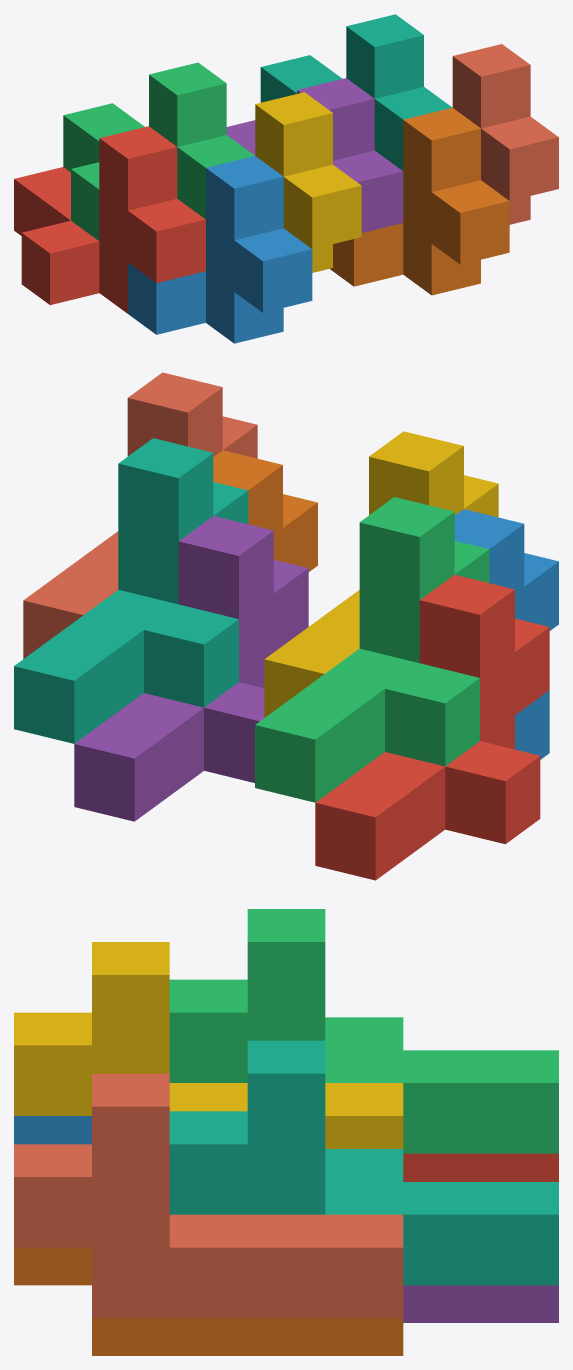
Rendered from tiling.obj.
3 renders of one model, top to bottom at view 1: azimuth 30°, elevation 25°; view 2: azimuth 150°, elevation 25°; view 3: azimuth 270°, elevation 25°, orthographic. The views are drawn at different scales.
Parts seen in each view (by area): view 1: copy_1_domain_1, copy_1_domain_2, copy_1_domain_6, copy_1_domain_3, copy_1_domain_8, copy_1_domain_4, copy_1_domain_7, copy_1_domain_5; view 2: copy_1_domain_7, copy_1_domain_3, copy_1_domain_1, copy_1_domain_5, copy_1_domain_8, copy_1_domain_4, copy_1_domain_2, copy_1_domain_6; view 3: copy_1_domain_8, copy_1_domain_7, copy_1_domain_3, copy_1_domain_4, copy_1_domain_6, copy_1_domain_5, copy_1_domain_1, copy_1_domain_2.
Part boxes in pixels (box(x1,y1,x2,y2)): copy_1_domain_1: box(14, 126, 205, 313); copy_1_domain_2: box(128, 156, 312, 343); copy_1_domain_6: box(330, 107, 509, 295); copy_1_domain_3: box(63, 62, 254, 240); copy_1_domain_8: box(452, 44, 558, 224); copy_1_domain_4: box(255, 92, 361, 272); copy_1_domain_7: box(260, 14, 451, 170); copy_1_domain_5: box(226, 78, 403, 232); copy_1_domain_7: box(14, 438, 248, 743); copy_1_domain_3: box(255, 497, 489, 802); copy_1_domain_1: box(315, 574, 549, 880); copy_1_domain_5: box(74, 516, 308, 821); copy_1_domain_8: box(23, 372, 257, 658); copy_1_domain_4: box(264, 431, 498, 717); copy_1_domain_2: box(454, 509, 558, 759); copy_1_domain_6: box(213, 450, 317, 571); copy_1_domain_8: box(14, 1073, 403, 1318); copy_1_domain_7: box(169, 1040, 558, 1285); copy_1_domain_3: box(169, 909, 558, 1153); copy_1_domain_4: box(14, 942, 403, 1148); copy_1_domain_6: box(14, 1247, 403, 1355); copy_1_domain_5: box(403, 1285, 558, 1322); copy_1_domain_1: box(403, 1153, 558, 1181); copy_1_domain_2: box(14, 1116, 91, 1144).
Bounding box in the file's own units: 8 × 4 × 7.
